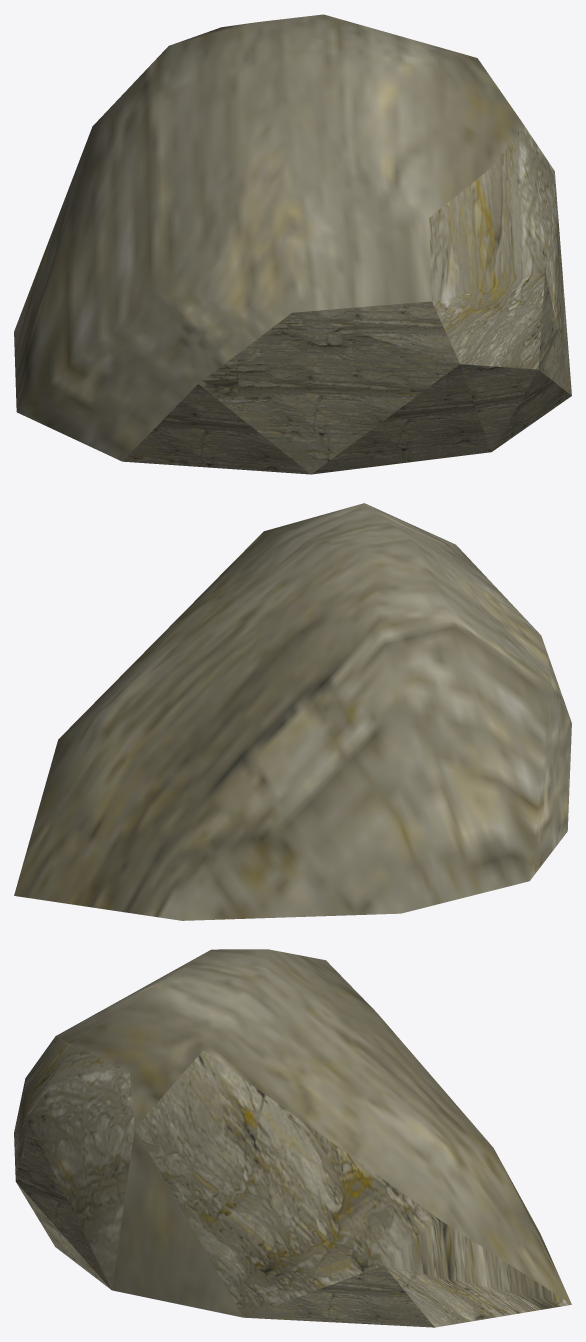
Rendered from stone_granite_med_0.glb.
3 renders of one model, top to bottom at view 1: azimuth 30°, elevation 25°; view 2: azimuth 150°, elevation 25°; view 3: azimuth 270°, elevation 25°, orthographic. The views are drawn at different scales.
Parts seen in each view (by area): view 1: stone_granite_med_0; view 2: stone_granite_med_0; view 3: stone_granite_med_0.
Part boxes in pixels (left/top/right/bottom): stone_granite_med_0: left=14, top=14, right=571, bottom=474; stone_granite_med_0: left=14, top=503, right=571, bottom=920; stone_granite_med_0: left=14, top=949, right=571, bottom=1327.
Bounding box in the file's own units: 0.626 × 0.3911 × 0.7503.
Materials: 1 (1 with a texture image).
